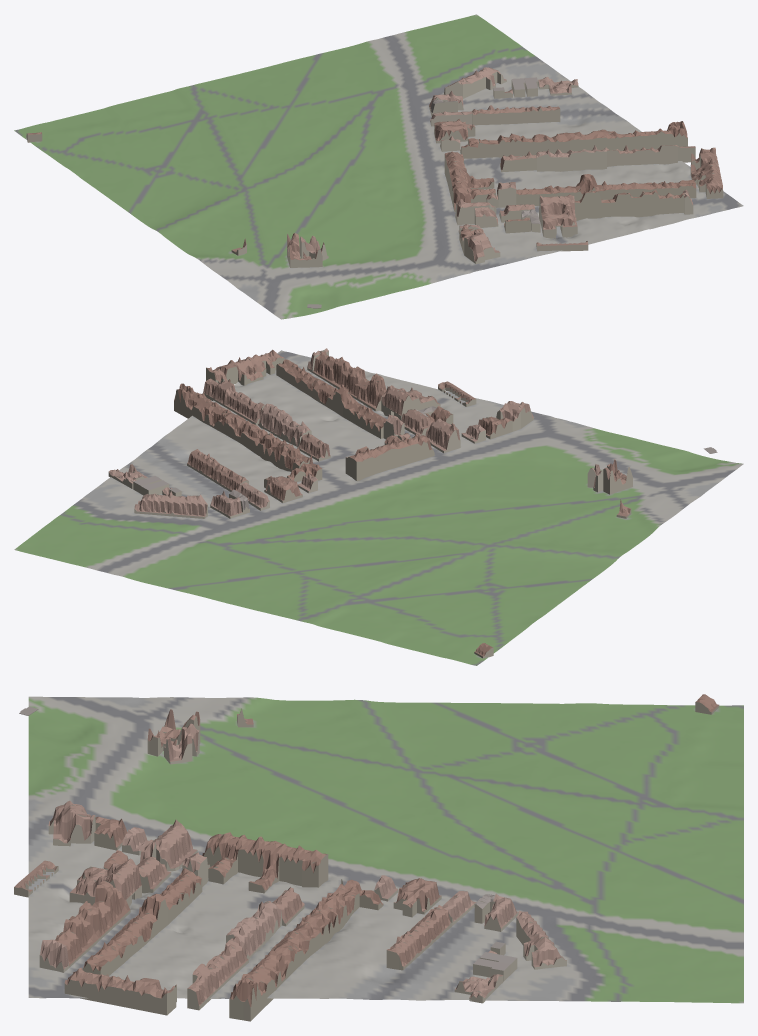
3 views of the same model, one above another, from view 1: azimuth 30°, elevation 25°; view 2: azimuth 150°, elevation 25°; view 3: azimuth 270°, elevation 25° (orthographic). The views are drawn at different scales.
Visible parts, largest first — view 1: ground, b:way/172397103, b:way/145168168, b:way/145168161, b:way/171463872, b:way/145162483, b:way/145168171, b:way/145162481, b:way/145162482, b:way/171887777, b:way/171465021, b:way/171463863 (+5 smaller); view 2: ground, b:way/172397103, b:way/145168161, b:way/171463872, b:way/145168168, b:way/171887777, b:way/171465021, b:way/145162483, b:way/145162482, b:way/145168171, b:way/145162481, b:way/145168172 (+7 smaller); view 3: ground, b:way/172397103, b:way/171463872, b:way/145168161, b:way/171887777, b:way/145168168, b:way/145162483, b:way/145162481, b:way/145168171, b:way/145162482, b:way/171463863, b:way/171465021 (+15 smaller).
Part boxes in pixels (box(x1,y1,x2,y2)): ground: box(14, 14, 743, 319); b:way/172397103: box(478, 121, 687, 157); b:way/145168168: box(574, 189, 683, 220); b:way/145168161: box(516, 174, 696, 205); b:way/171463872: box(444, 151, 495, 212); b:way/145162483: box(606, 145, 695, 166); b:way/145168171: box(539, 194, 577, 238); b:way/145162481: box(472, 105, 560, 125); b:way/145162482: box(535, 145, 606, 171); b:way/171887777: box(690, 147, 723, 198); b:way/171465021: box(444, 67, 506, 98); b:way/171463863: box(462, 229, 500, 263); ground: box(14, 350, 743, 665); b:way/172397103: box(174, 383, 310, 471); b:way/145168161: box(276, 359, 386, 438); b:way/171463872: box(345, 433, 434, 481); b:way/145168168: box(312, 351, 386, 411); b:way/171887777: box(206, 349, 284, 385); b:way/171465021: box(134, 491, 207, 518); b:way/145162483: box(203, 378, 264, 425); b:way/145162482: box(258, 403, 311, 446); b:way/145168171: box(381, 385, 440, 420); b:way/145162481: box(187, 449, 248, 491); b:way/145168172: box(425, 418, 460, 453); ground: box(28, 696, 743, 1003); b:way/172397103: box(229, 883, 359, 1021); b:way/171463872: box(202, 832, 328, 893); b:way/145168161: box(83, 868, 202, 975); b:way/171887777: box(64, 967, 176, 1015); b:way/145168168: box(55, 880, 130, 967); b:way/145162483: box(187, 936, 248, 1010); b:way/145162481: box(386, 905, 452, 970); b:way/145168171: box(69, 858, 141, 907); b:way/145162482: box(226, 901, 281, 959); b:way/171463863: box(48, 800, 95, 846); b:way/171465021: box(516, 910, 566, 969).
Bounding box in the file's own units: 264 × 17.13 × 255.
